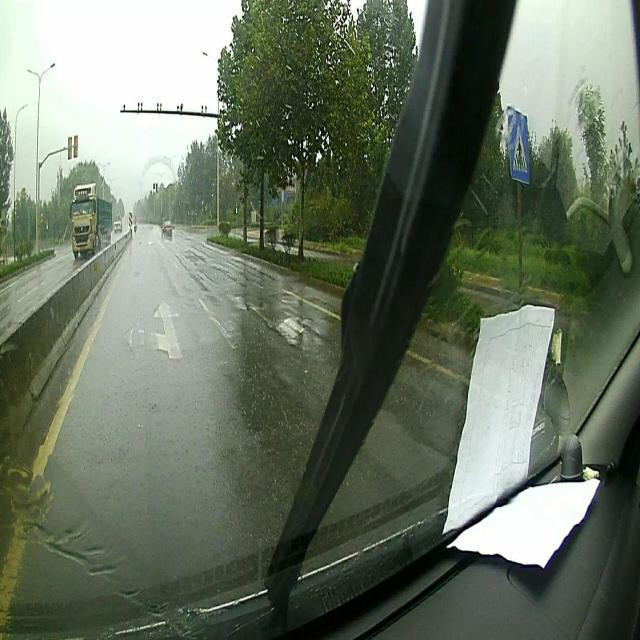car: (68, 179, 112, 257), (162, 217, 172, 240), (114, 216, 123, 230)
